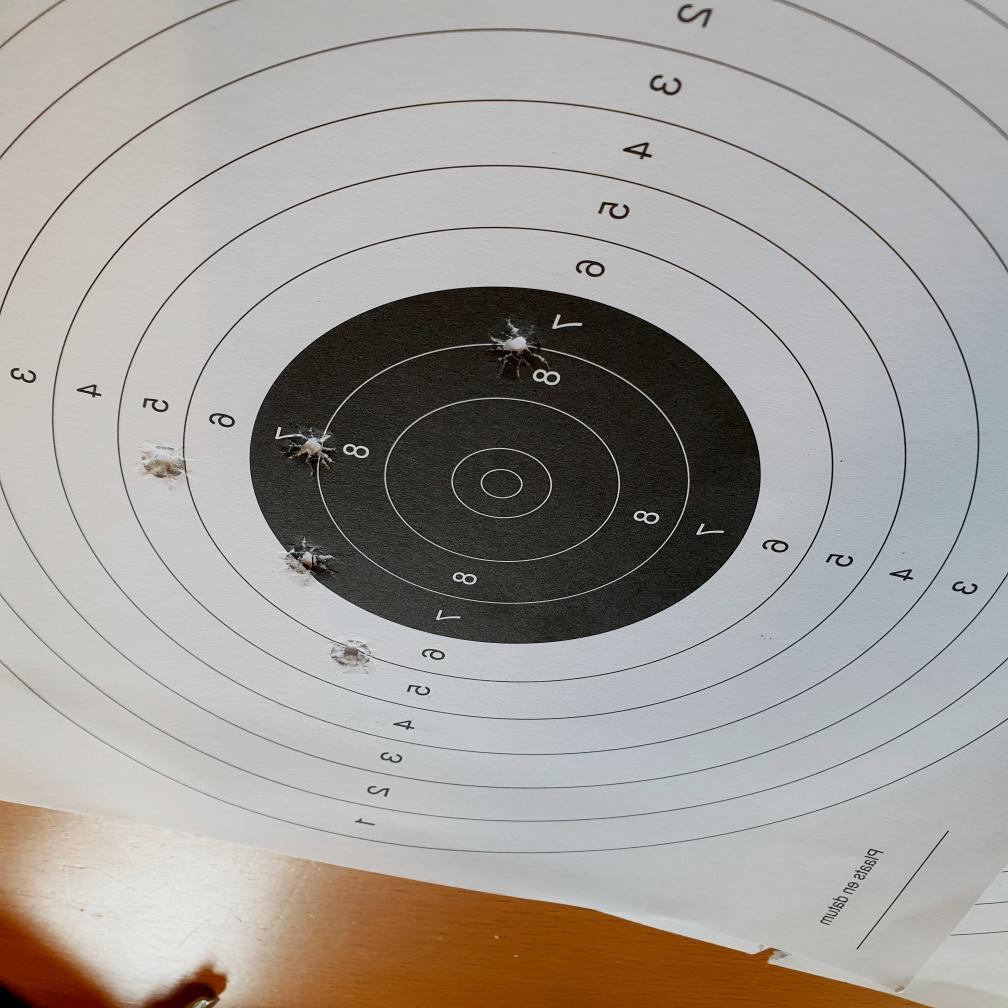6: (136, 438, 193, 485), (325, 636, 372, 677)
7: (274, 533, 336, 590)
8: (485, 321, 554, 371), (282, 422, 340, 469)
Target: (0, 0, 1008, 858)
black_contour: (248, 287, 760, 645)
